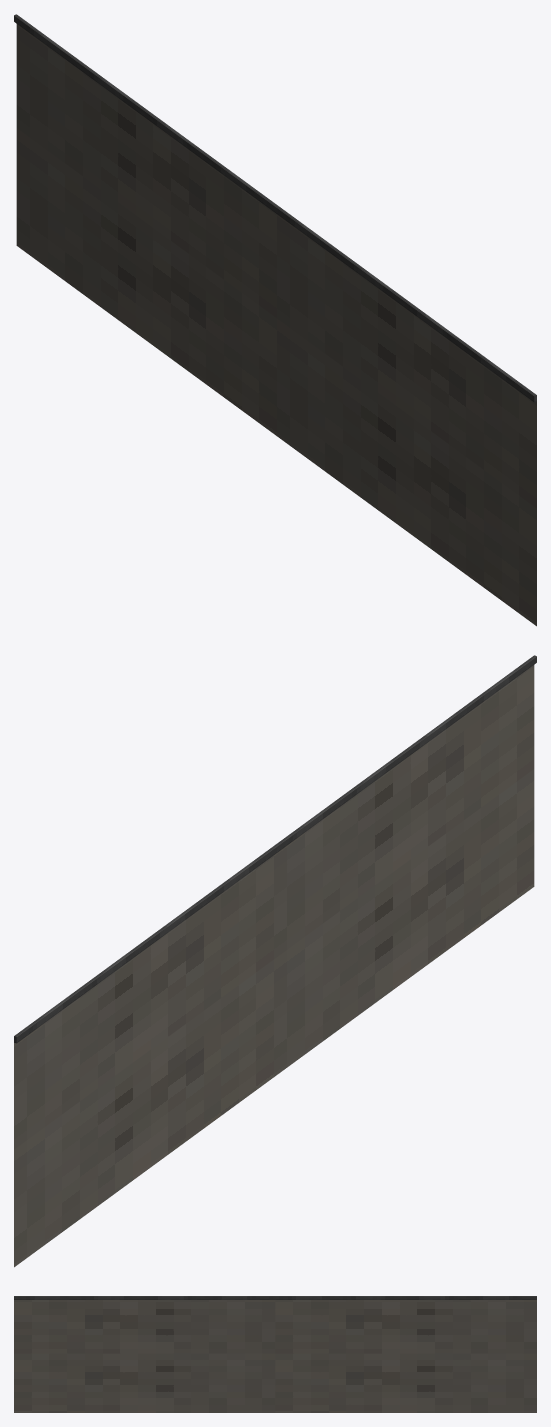
File: curb_lod.fbx
3 views of the same model, one above another, from view 1: azimuth 30°, elevation 25°; view 2: azimuth 150°, elevation 25°; view 3: azimuth 270°, elevation 25° (orthographic). The views are drawn at different scales.
Parts seen in each view (by area): view 1: NodeSidewalk_lod.003; view 2: NodeSidewalk_lod.003; view 3: NodeSidewalk_lod.003.
Part boxes in pixels (<box>): NodeSidewalk_lod.003: <box>14,14,536,626</box>; NodeSidewalk_lod.003: <box>14,655,536,1267</box>; NodeSidewalk_lod.003: <box>14,1296,536,1412</box>.
Bounding box in the file's own units: 20 × 1571 × 6400.
